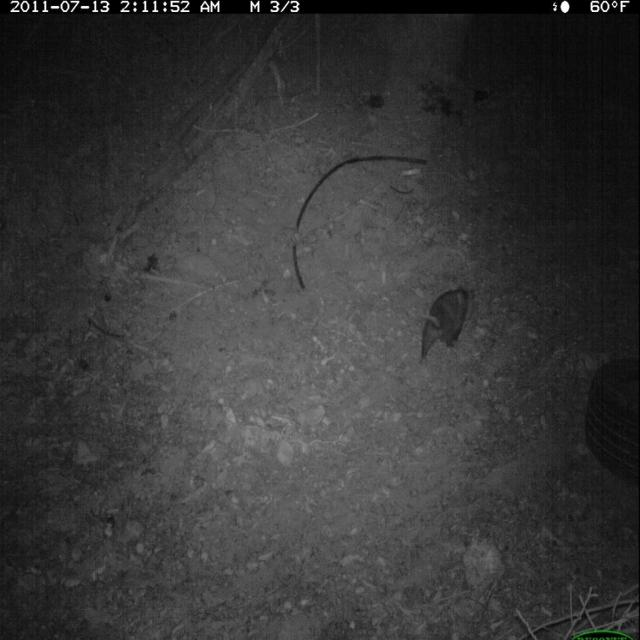opossum: (415, 280, 479, 370)
